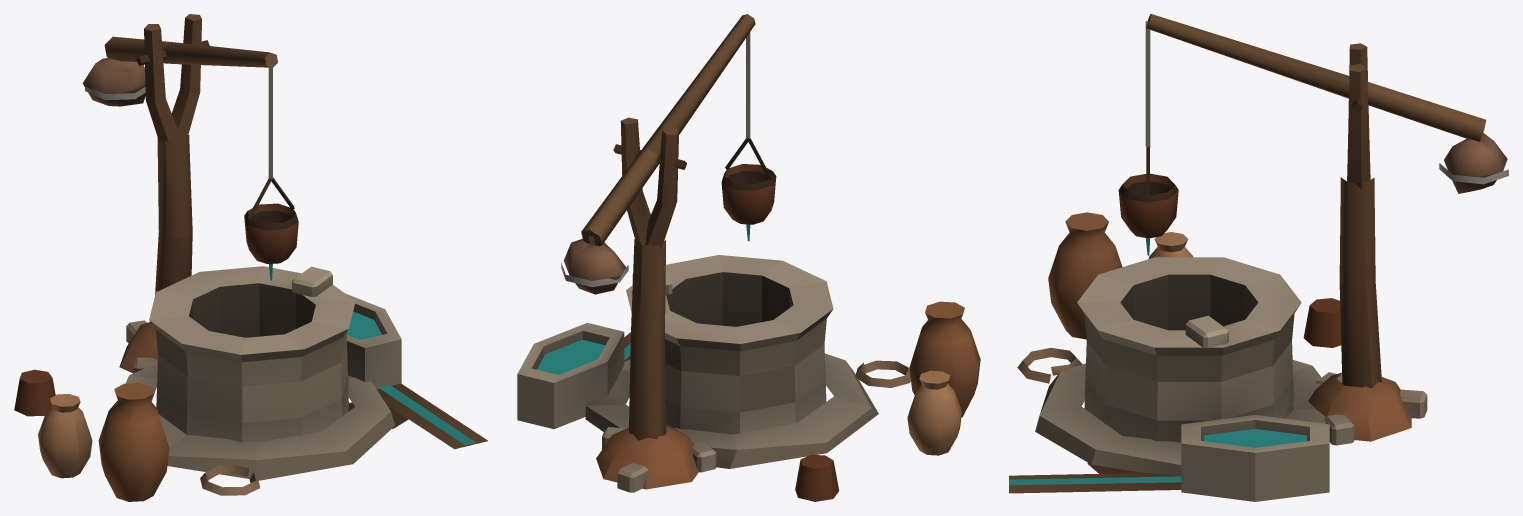
Rendered from puits.glb.
The picture shows the model from 3 angles, left to right: view 1: azimuth 30°, elevation 25°; view 2: azimuth 150°, elevation 25°; view 3: azimuth 270°, elevation 25°; orthographic projection. The views are drawn at different scales.
Parts seen in each view (by area): view 1: puits, bras; view 2: puits, bras; view 3: puits, bras.
Part boxes in pixels (x1,y1,x2,y2): puits: (14, 14, 487, 501); bras: (82, 36, 298, 280); puits: (517, 117, 980, 501); bras: (561, 14, 776, 294); puits: (1009, 43, 1427, 501); bras: (1118, 14, 1508, 255).
Bounding box in the file's own units: 0.785 × 0.7397 × 0.8317.
